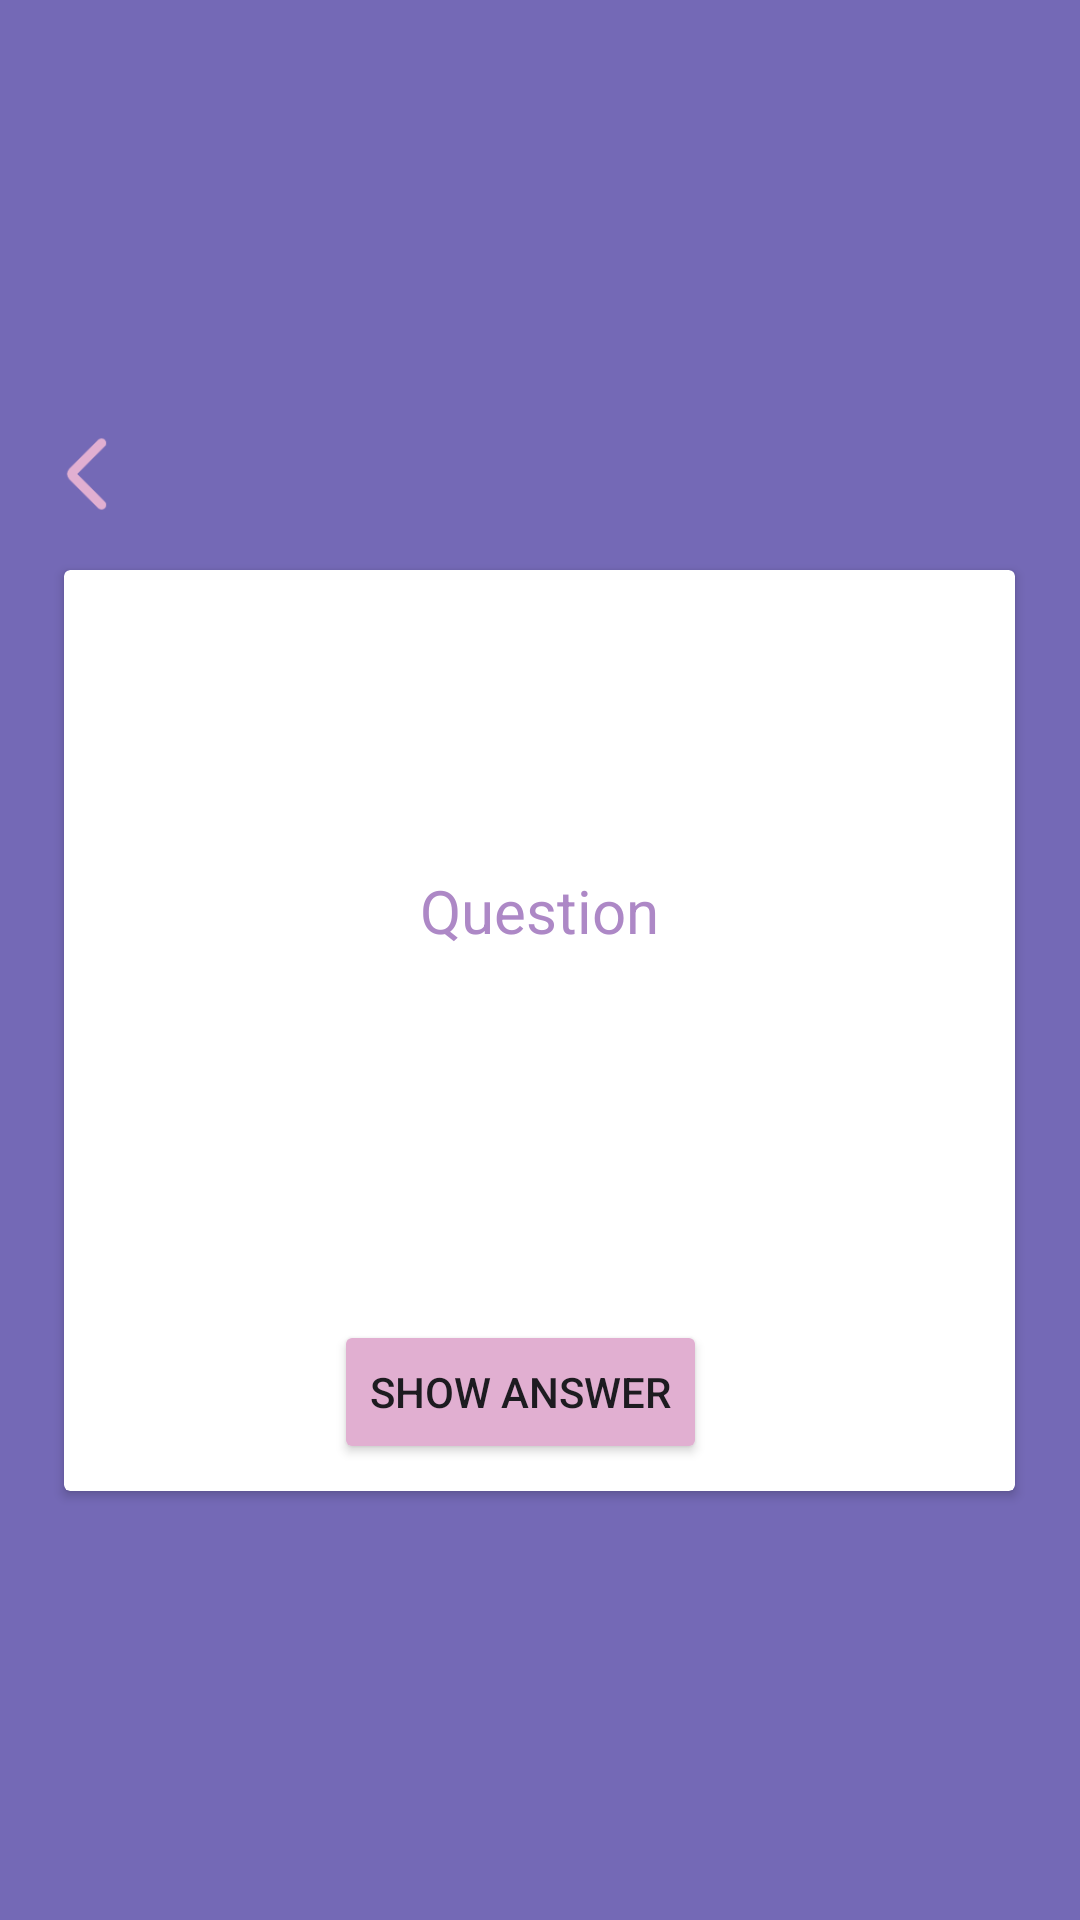

Icons on this 1080*1920 Android screen, each with the point to tap as [x,y]:
back: [86,474]
